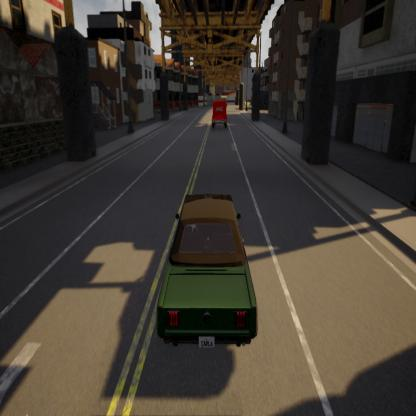Cars: (146, 182, 268, 366), (209, 94, 232, 134)
